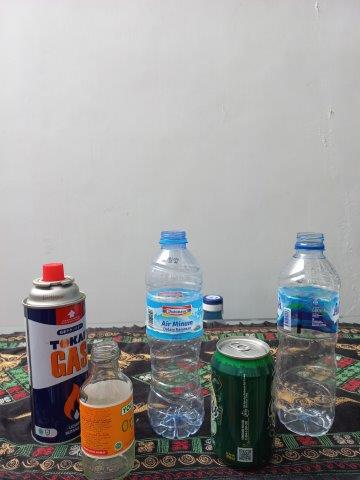botolkaca: (83, 344, 134, 478)
botolplastik: (145, 230, 204, 439), (280, 233, 338, 434)
kaleng: (24, 265, 86, 446), (210, 338, 274, 470)
